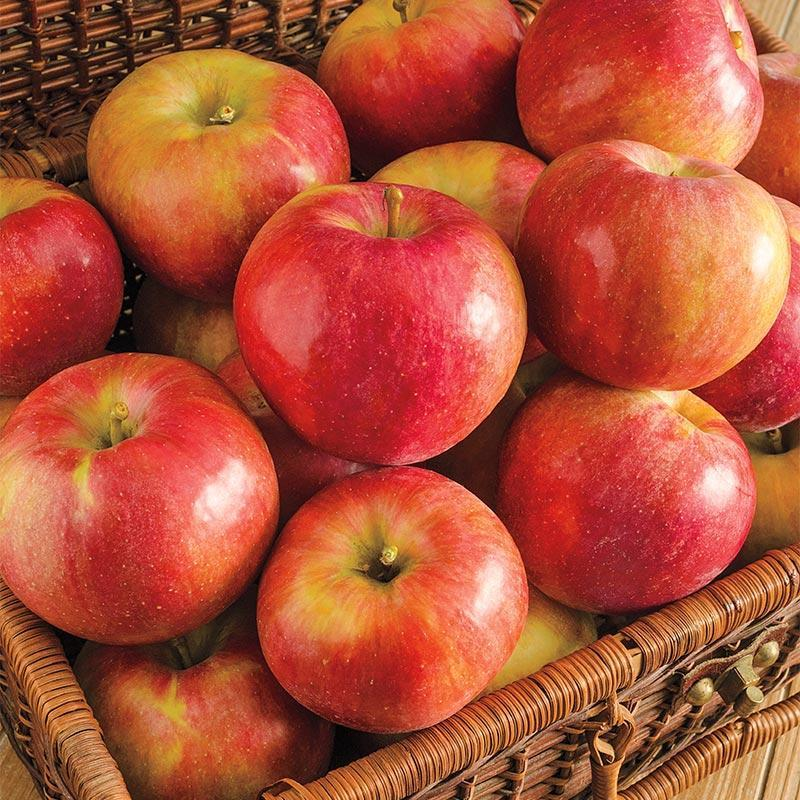apple: (244, 175, 552, 469), (1, 381, 285, 663), (255, 463, 528, 734), (79, 49, 354, 306), (524, 138, 795, 394), (494, 365, 754, 619), (74, 604, 330, 795), (513, 2, 762, 173), (316, 3, 521, 151), (1, 179, 124, 392)
